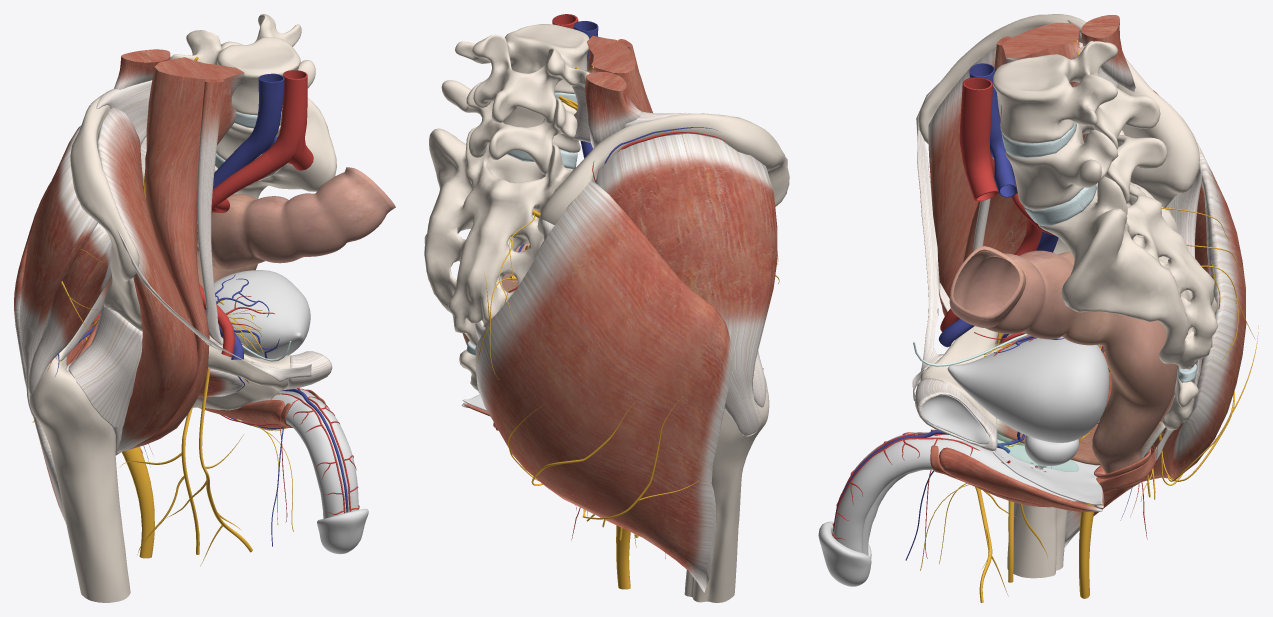
File: open3dmodel-pelvicfloor.glb
The picture shows the model from 3 angles, left to right: view 1: azimuth 30°, elevation 25°; view 2: azimuth 150°, elevation 25°; view 3: azimuth 270°, elevation 25°; orthographic projection. The views are drawn at different scales.
Parts seen in each view (by area): view 1: Psoas major.r, Iliacus muscle.r, Femur.r, Sigmoid colon / rectum, Hip bone.r, Gluteus medius muscle.r, Urinary bladder, Hip joint capsule.r, Gluteus minimus muscle.r, Lumbar vertebrae (L4), Corpus cavernosum of penis, Psoas minor.r (+20 smaller); view 2: Gluteus maximus muscle.r, Gluteus medius muscle.r, Sacrum, Lumbar vertebrae (L4), Hip bone.r, Femur.r, Lumbar vertebrae (L5), Quadratus lumborum muscle.r, Psoas major.r, Inferior clunial br. of Post. cutaneous nerve of the thigh.r, Iliolumbar ligament .r, Schiatic nerve.r (+1 smaller); view 3: Sigmoid colon / rectum, Sacrum, Urinary bladder, Gluteus maximus muscle.r, Lumbar vertebrae (L4), Hip bone.r, Lumbar vertebrae (L5), Iliacus muscle.r, Corpus cavernosum of penis, Psoas major.r, Femur.r, Perineal membrane (+28 smaller).
Part boxes in pixels (bbox=[...]): Psoas major.r: bbox=[115, 57, 244, 455]; Iliacus muscle.r: bbox=[97, 108, 198, 452]; Femur.r: bbox=[29, 356, 130, 602]; Sigmoid colon / rectum: bbox=[197, 167, 395, 288]; Hip bone.r: bbox=[70, 94, 290, 410]; Gluteus medius muscle.r: bbox=[19, 125, 97, 416]; Urinary bladder: bbox=[214, 270, 310, 358]; Hip joint capsule.r: bbox=[68, 306, 142, 453]; Gluteus minimus muscle.r: bbox=[28, 223, 111, 395]; Lumbar vertebrae (L4): bbox=[170, 14, 301, 115]; Corpus cavernosum of penis: bbox=[253, 388, 358, 518]; Psoas minor.r: bbox=[197, 79, 224, 344]; Gluteus maximus muscle.r: bbox=[475, 181, 732, 592]; Gluteus medius muscle.r: bbox=[595, 133, 777, 436]; Sacrum: bbox=[424, 127, 572, 346]; Lumbar vertebrae (L4): bbox=[455, 24, 589, 124]; Hip bone.r: bbox=[537, 113, 789, 235]; Femur.r: bbox=[684, 376, 769, 602]; Lumbar vertebrae (L5): bbox=[441, 80, 580, 174]; Quadratus lumborum muscle.r: bbox=[584, 72, 643, 148]; Psoas major.r: bbox=[585, 36, 652, 112]; Inferior clunial br. of Post. cutaneous nerve of the thigh.r: bbox=[508, 396, 699, 519]; Iliolumbar ligament .r: bbox=[572, 83, 689, 142]; Schiatic nerve.r: bbox=[575, 505, 630, 589]; Sigmoid colon / rectum: bbox=[949, 246, 1177, 473]; Sacrum: bbox=[1038, 130, 1218, 369]; Urinary bladder: bbox=[947, 336, 1109, 442]; Gluteus maximus muscle.r: bbox=[1064, 104, 1246, 547]; Lumbar vertebrae (L4): bbox=[993, 41, 1160, 149]; Hip bone.r: bbox=[918, 14, 1199, 445]; Lumbar vertebrae (L5): bbox=[1005, 123, 1167, 210]; Iliacus muscle.r: bbox=[928, 42, 1085, 316]; Corpus cavernosum of penis: bbox=[833, 432, 1077, 552]; Psoas major.r: bbox=[963, 22, 1084, 262]; Femur.r: bbox=[1007, 502, 1067, 578]; Perineal membrane: bbox=[993, 439, 1102, 505].
Bounding box in the file's own units: 0.2197 × 0.3308 × 0.2215.
21 materials, 8 textured.
